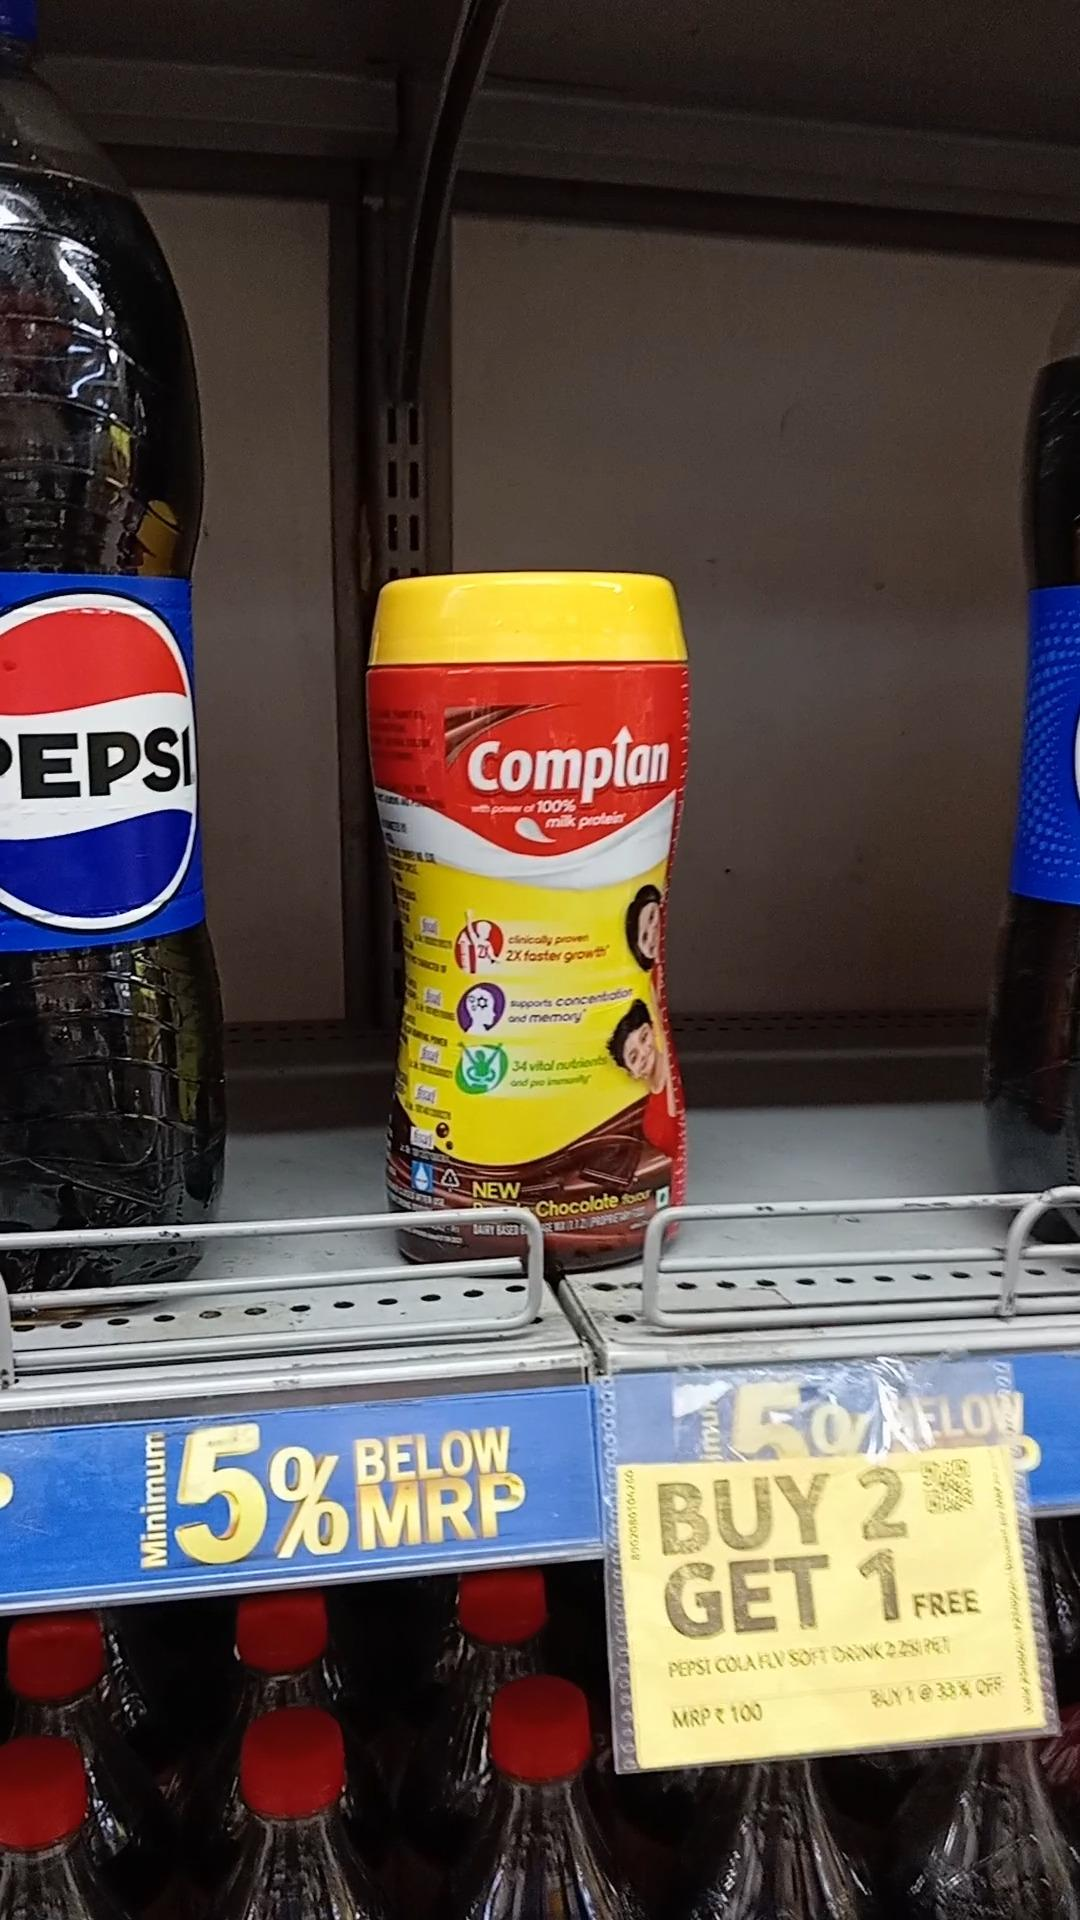COMPLAN_CHOCOLATE_500_GMS_JAR: (384, 553, 692, 1273)
